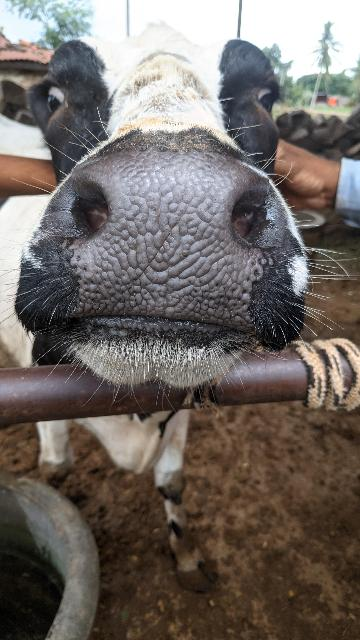Muzzle: (80, 164, 258, 332)
